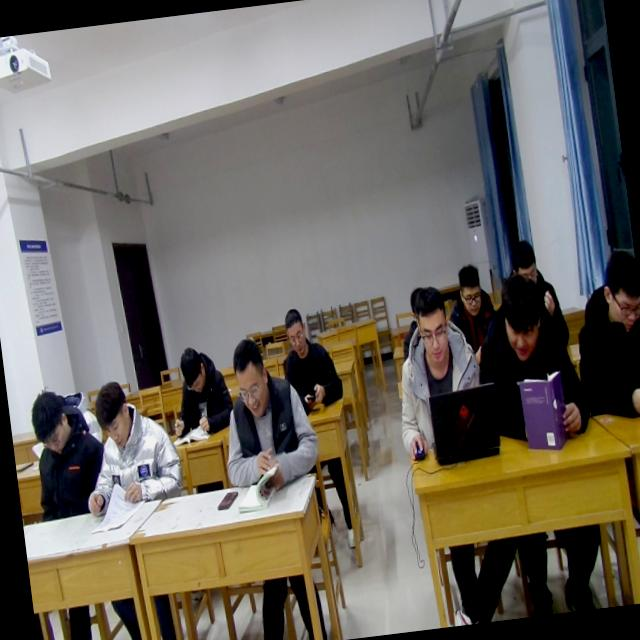down: (493, 266, 546, 366), (226, 332, 278, 424), (593, 240, 640, 335), (408, 280, 454, 369), (25, 382, 75, 460), (90, 374, 138, 454), (451, 256, 486, 321), (278, 299, 314, 362), (174, 336, 209, 398), (509, 235, 542, 289)
sit: (467, 265, 589, 452), (382, 278, 492, 467), (211, 330, 322, 490), (72, 372, 188, 522), (561, 244, 640, 430), (25, 382, 114, 528), (274, 300, 347, 416), (503, 235, 571, 358), (164, 338, 238, 438), (442, 258, 502, 368)
